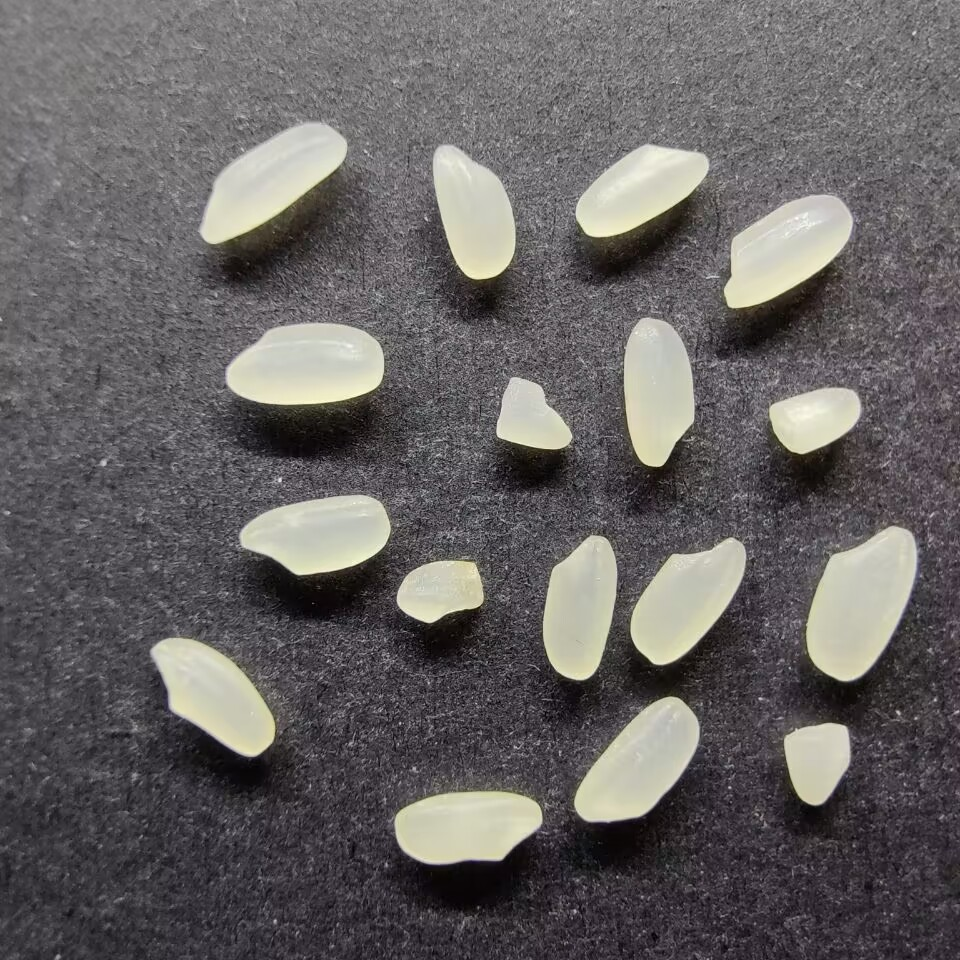broken: (767, 385, 862, 455), (495, 375, 574, 452), (393, 559, 486, 624), (783, 720, 852, 807)
rice: (199, 119, 350, 244), (804, 524, 919, 682), (573, 695, 700, 825), (628, 536, 748, 666), (723, 193, 855, 311), (150, 637, 276, 757), (224, 323, 385, 406), (575, 141, 711, 239), (237, 493, 391, 576), (429, 142, 517, 281), (540, 533, 618, 681), (392, 791, 543, 867), (623, 316, 696, 466)
